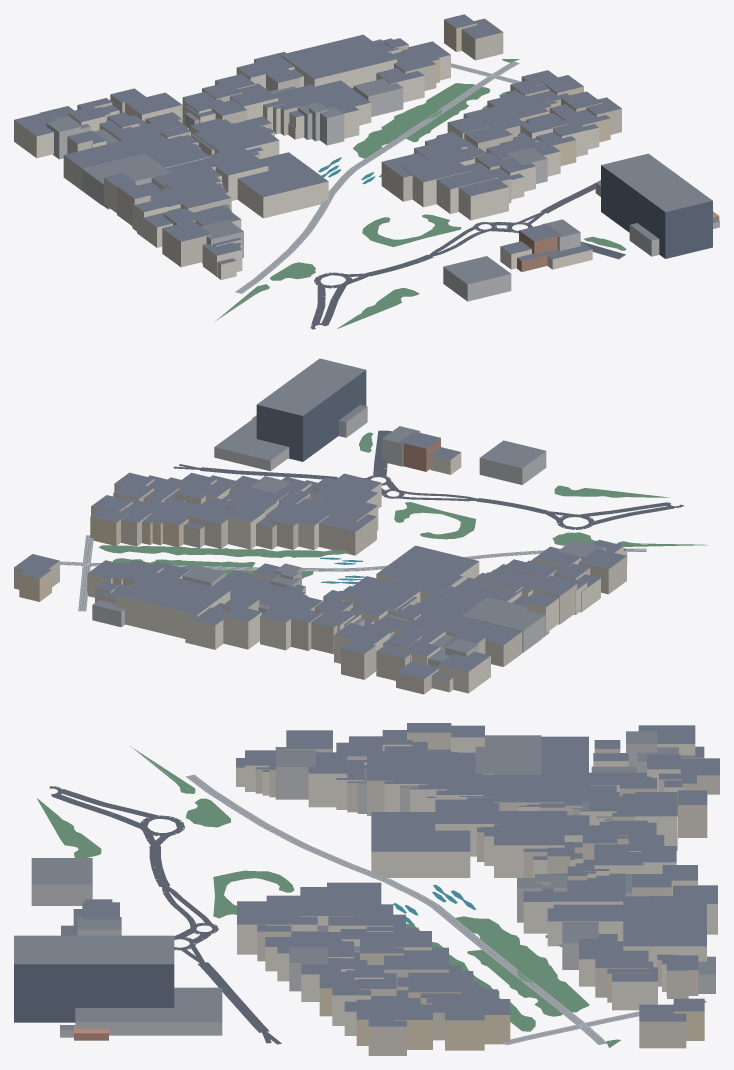
File: tile_3_3_lod1.glb
The picture shows the model from 3 angles, top to bottom: view 1: azimuth 30°, elevation 25°; view 2: azimuth 150°, elevation 25°; view 3: azimuth 270°, elevation 25°; orthographic projection. The views are drawn at different scales.
Visible parts, largest first — view 1: TileRoot; view 2: TileRoot; view 3: TileRoot.
Boxes of the visible parts, x1,y1,x2,y2 form: TileRoot: (14,14,719,329); TileRoot: (14,358,707,694); TileRoot: (14,723,719,1055).
Bounding box in the file's own units: 449 × 40.96 × 436.
